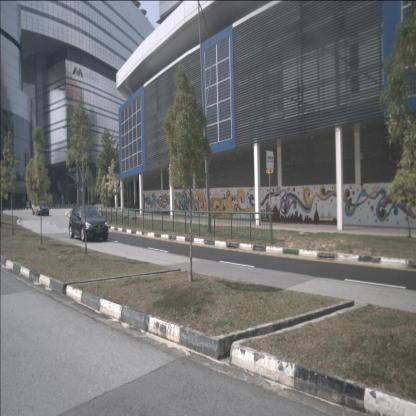vehicle-car: (68, 205, 108, 242), (32, 200, 49, 216)
